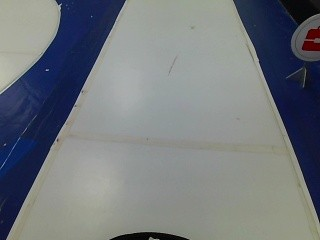company: (292, 20, 318, 60)
